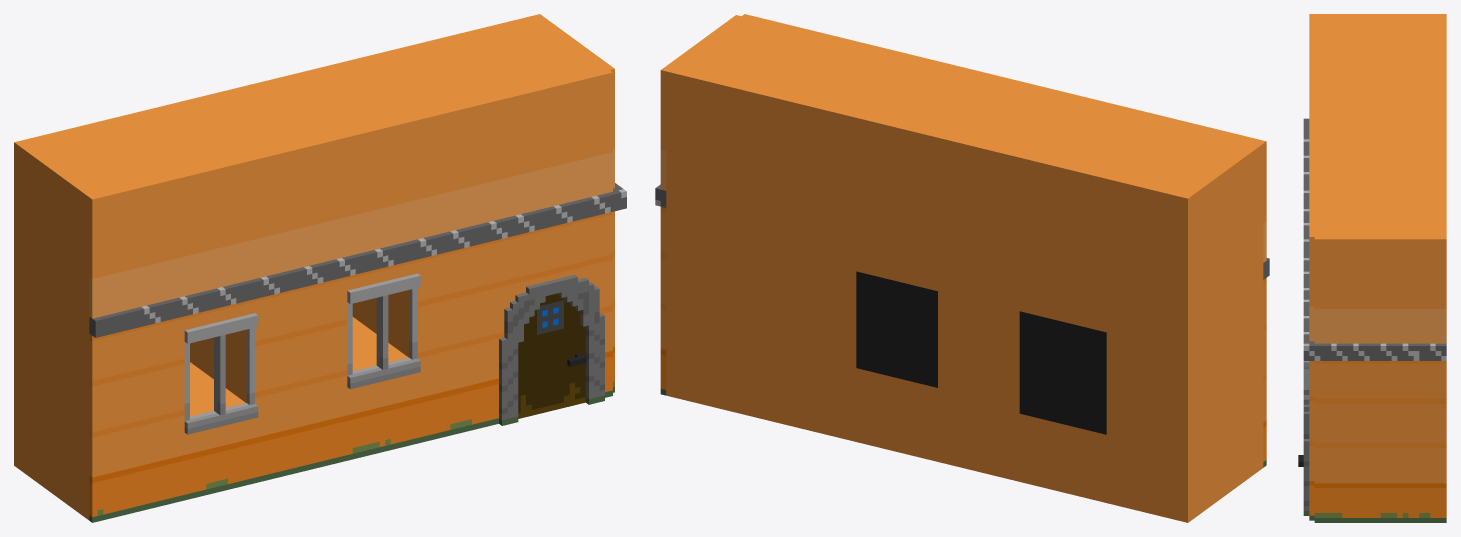
The model's file is Matrix_2.fbx.
3 renders of one model, left to right at view 1: azimuth 30°, elevation 25°; view 2: azimuth 150°, elevation 25°; view 3: azimuth 270°, elevation 25°, orthographic. The views are drawn at different scales.
Visible parts, largest first — view 1: Matrix_2; view 2: Matrix_2; view 3: Matrix_2.
Boxes of the visible parts, x1=… form: Matrix_2: x1=14, y1=14, x2=626, y2=522; Matrix_2: x1=655, y1=14, x2=1269, y2=522; Matrix_2: x1=1298, y1=14, x2=1446, y2=522.
Size of the model in its own units: 98 by 57 by 27.
Materials: 1 (1 with a texture image).
